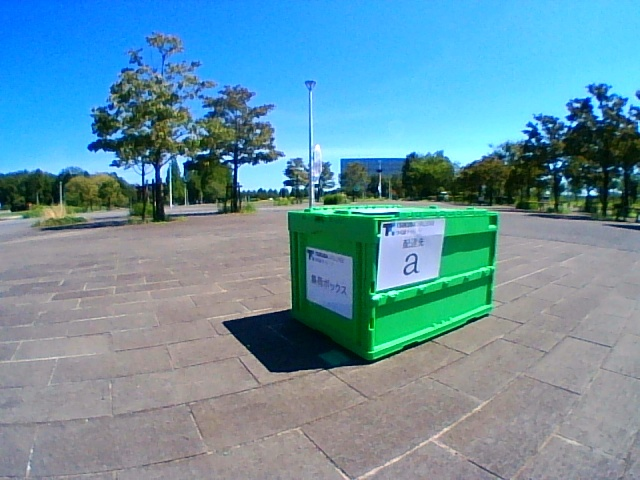green_box: (288, 205, 500, 360)
tag_a: (386, 229, 426, 281)
